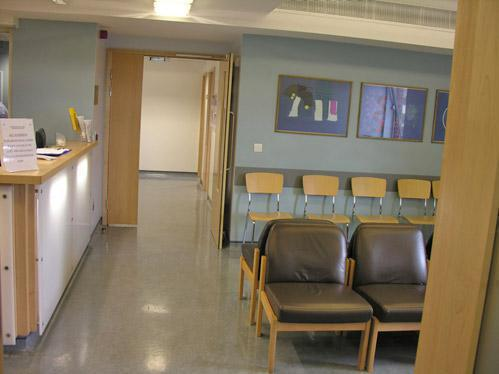Puerta: (211, 55, 234, 243)
